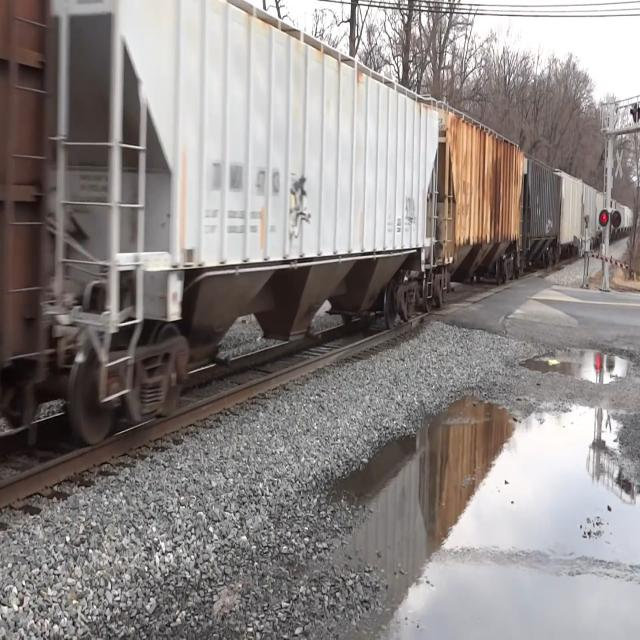hopper: (50, 0, 443, 447), (441, 95, 524, 305)
